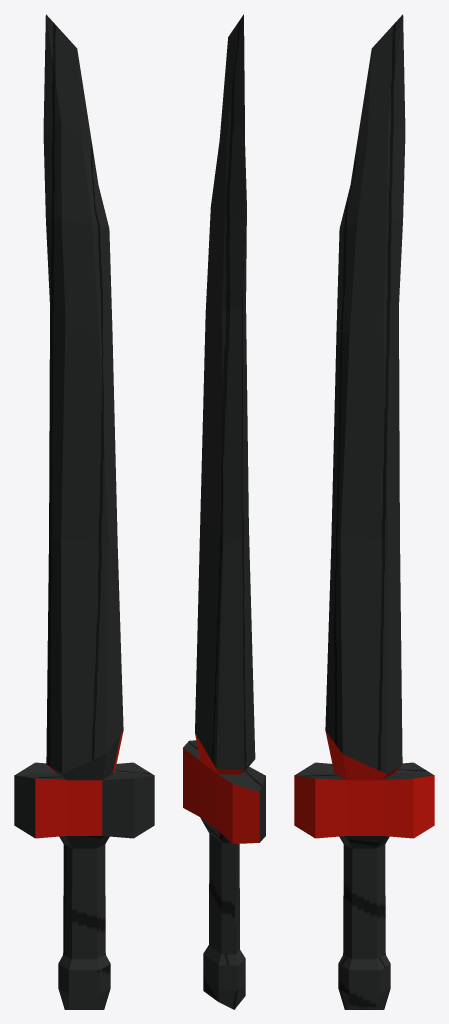
File: HellWalker_Crucible.fbx
3 views of the same model, side by side, from view 1: azimuth 90°, elevation 25°; view 2: azimuth 210°, elevation 25°; view 3: azimuth 270°, elevation 25° (orthographic).
Visible parts, largest first — view 1: HordePraetor_Crucible; view 2: HordePraetor_Crucible; view 3: HordePraetor_Crucible.
Part boxes in pixels (x1,y1,x2,y2): HordePraetor_Crucible: (14,14,154,1009); HordePraetor_Crucible: (183,14,265,1009); HordePraetor_Crucible: (294,14,434,1009).
Bounding box in the file's own units: 0.0264 × 0.6478 × 0.0826.
